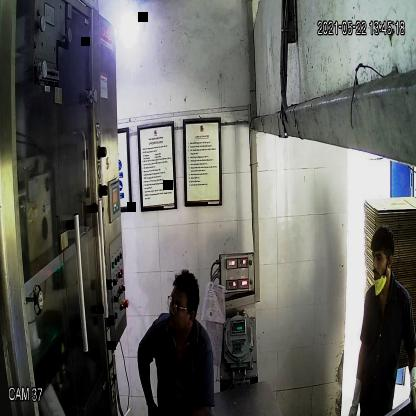goggles: (165, 293, 195, 316)
no_goggles: (370, 249, 390, 265)
